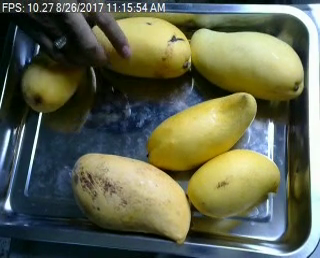Mango: (71, 153, 191, 243), (151, 93, 256, 168), (191, 29, 302, 97), (88, 15, 189, 79), (186, 148, 278, 216), (21, 43, 85, 115)
